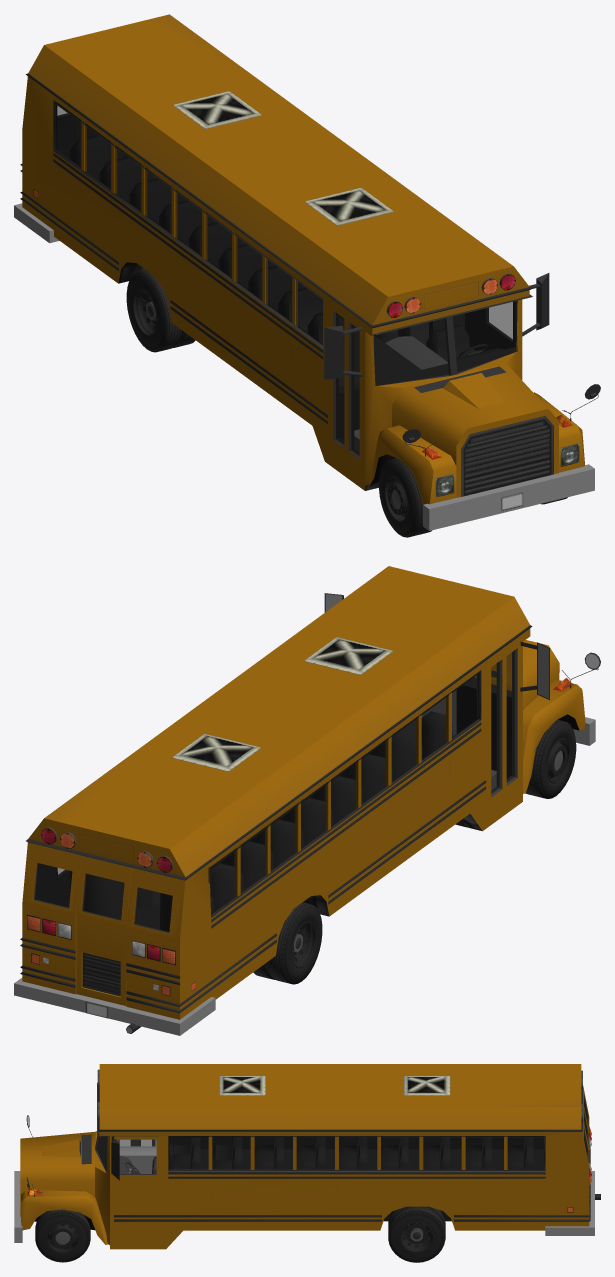
File: BusSchool.FBX
3 renders of one model, top to bottom at view 1: azimuth 30°, elevation 25°; view 2: azimuth 150°, elevation 25°; view 3: azimuth 270°, elevation 25°, orthographic. The views are drawn at different scales.
Visible parts, largest first — view 1: Body, Door_R, Wheel_BR, Wheel_FR; view 2: Body, Door_R, Wheel_BR, Wheel_FR; view 3: Body, Wheel_BL, Wheel_FL, Door_R.
Part boxes in pixels (x1,y1,x2,y2): Body: [14, 14, 600, 530]; Door_R: [327, 300, 364, 489]; Wheel_BR: [126, 270, 195, 352]; Wheel_FR: [379, 458, 431, 537]; Body: [14, 566, 600, 1035]; Door_R: [485, 638, 522, 827]; Wheel_BR: [253, 902, 322, 984]; Wheel_FR: [525, 719, 576, 798]; Body: [14, 1064, 600, 1249]; Wheel_BL: [388, 1206, 445, 1262]; Wheel_FL: [35, 1209, 90, 1262]; Door_R: [118, 1139, 156, 1146].
Bounding box in the file's own units: 80.09 × 74.94 × 258.
